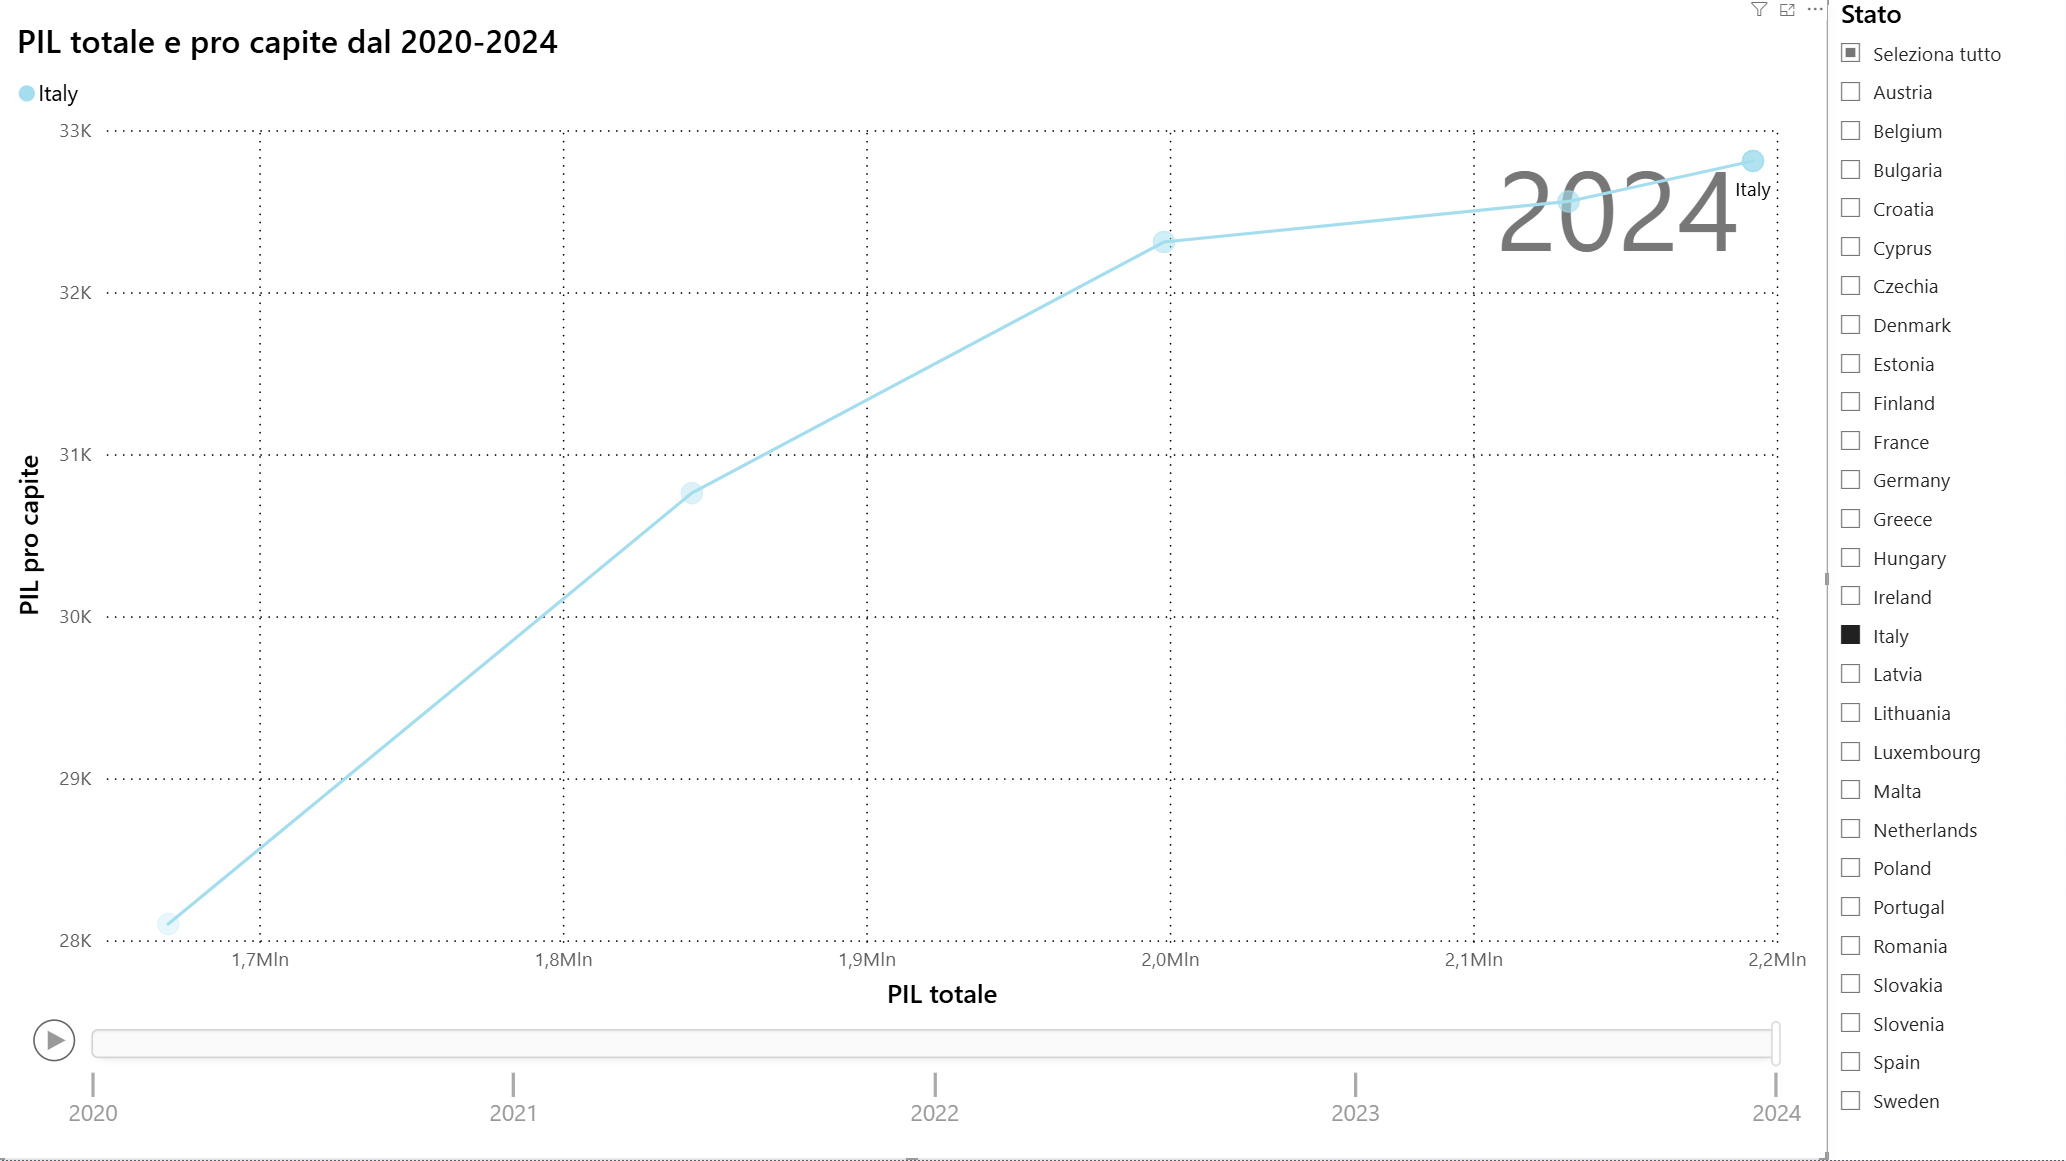

Layout of this report page (visuals, bound fields, positions):
{"tool":"powerbi","page":{"name":"PIL Totale e capita nel tempo","canvas":[1280,720],"ordinal":3},"visuals":[{"type":"scatterChart","title":"PIL totale e pro capite dal 2020-2024","fields":{"Play":["Europa tendenze_di_crescita_economica.Anno"],"X":["Sum(Europa tendenze_di_crescita_economica.Gdp_totale)"],"Y":["Avg(Europa tendenze_di_crescita_economica.Gdp_per_capita)"],"Series":["Europa tendenze_di_crescita_economica.Stato"]},"box":[0,0,1133.5,720.4],"z":0},{"type":"slicer","fields":{"Values":["Europa tendenze_di_crescita_economica.Stato"]},"box":[1133.5,0,147.1,720.4],"z":1000}]}

Visuals, with their boxes on the page's 1280x720 design canvas (x1, y1, x2, y2). These are canvas units, not pixel positions in the 2066x1161 screenshot, which may show the page scaled, cropped or inside an application window:
"PIL totale e pro capite dal 2020-2024" scatterChart: x1=0 y1=0 x2=1134 y2=720
slicer - Europa tendenze_di_crescita_economica.Stato: x1=1134 y1=0 x2=1281 y2=720
